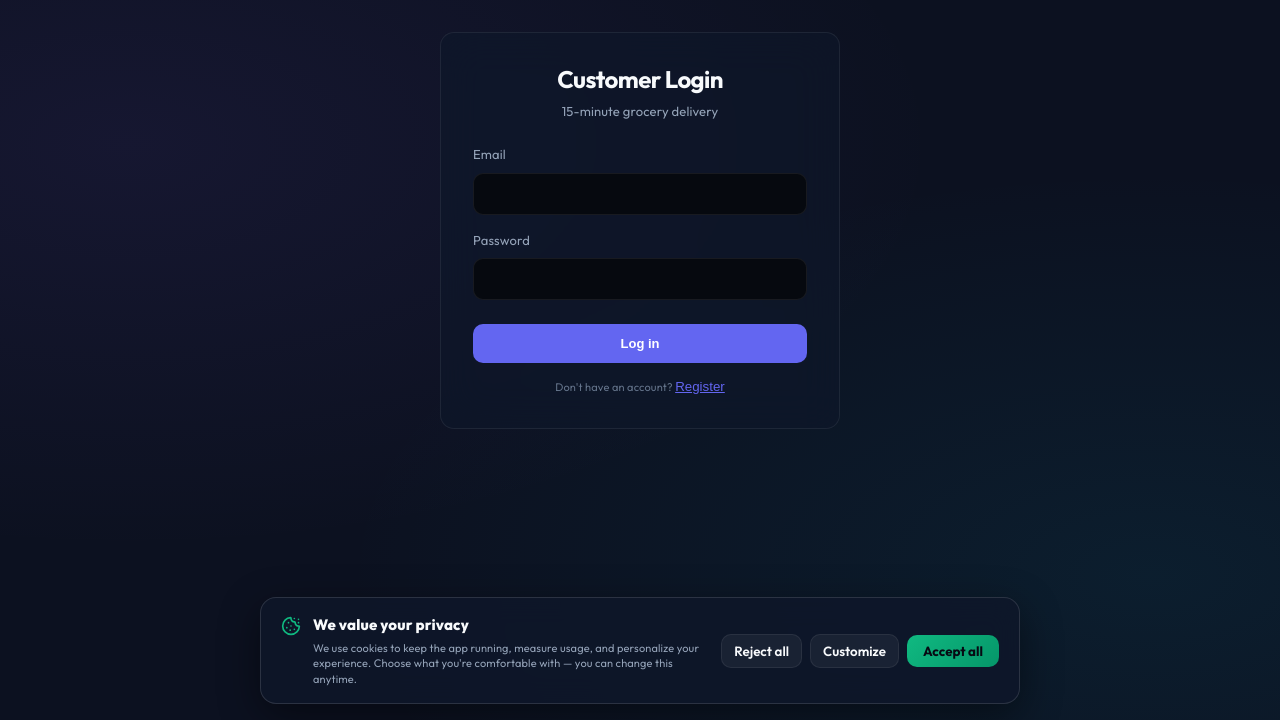
it: Consent Management — Preferences dialog via Customize › closing the dialog without saving does not persist any consent
This screenshot has width=1280, height=720.
Step 1. Click the button "Customize" → (855, 651), box [810,634,899,668]
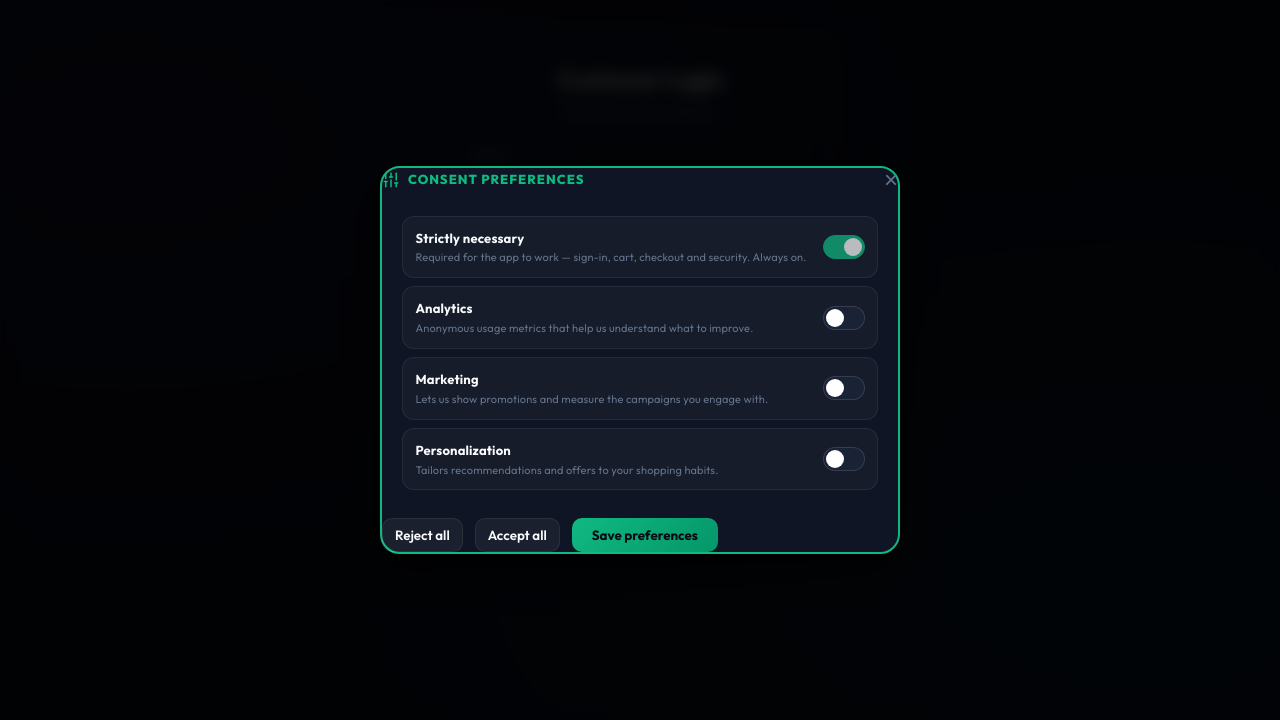
Check: the heading "Consent Preferences" is shown, box [382,170,584,188]
Step 2. Click the switch named "Analytics" → (844, 318), box [823,306,865,330]
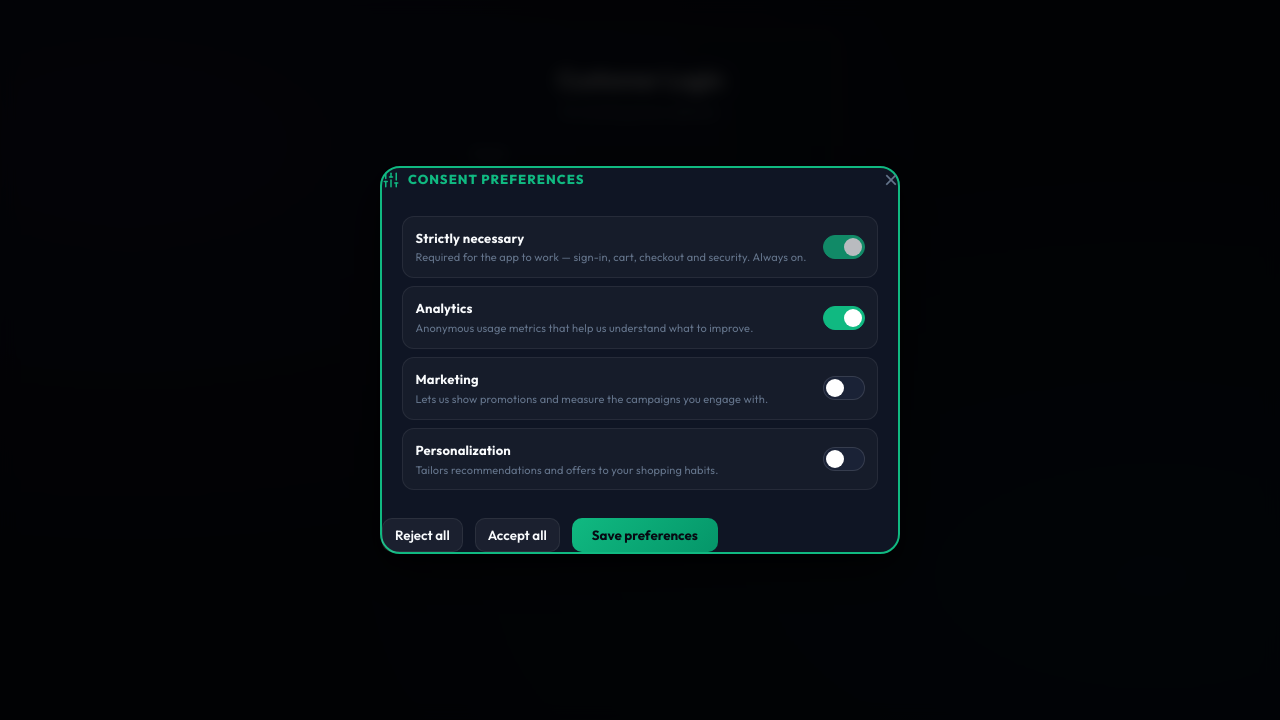
Step 3. Click the button named "Close" → (891, 180), box [884,168,898,192]
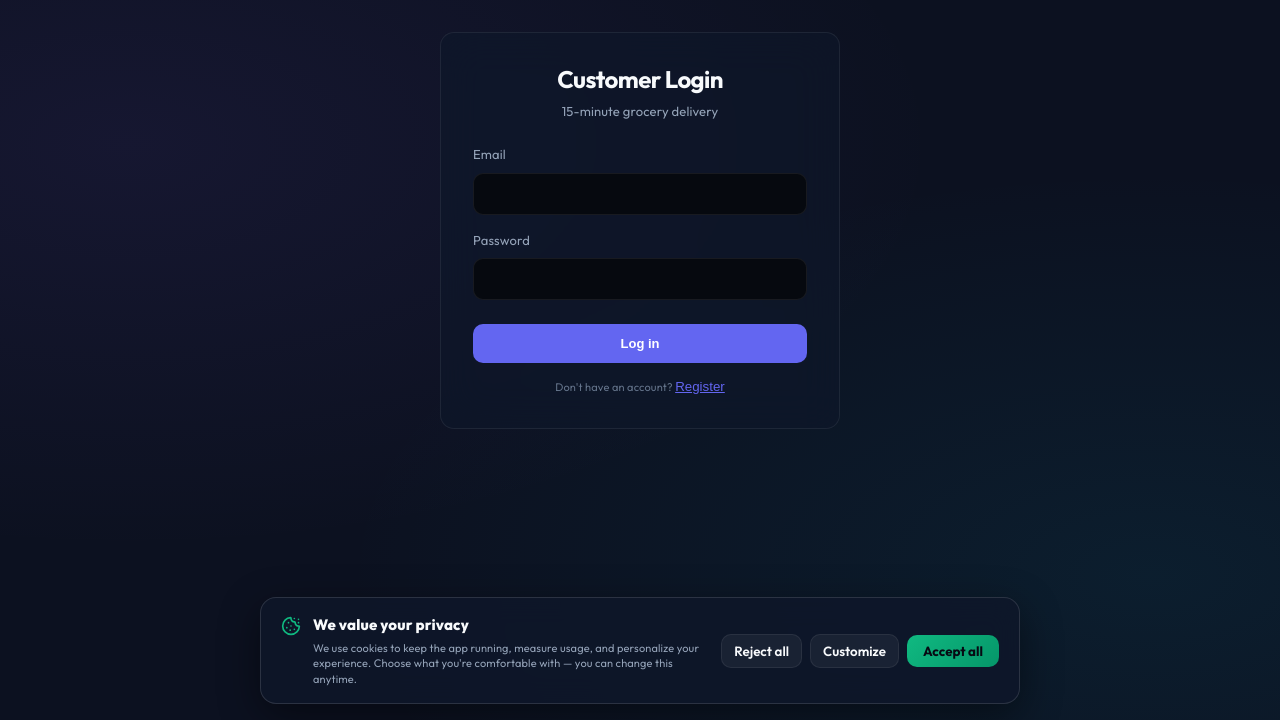
Check: the dialog named "Cookie consent" is shown, box [260,597,1020,704]
